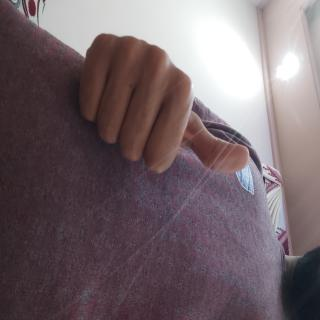ALIF: (19, 87, 138, 320)
